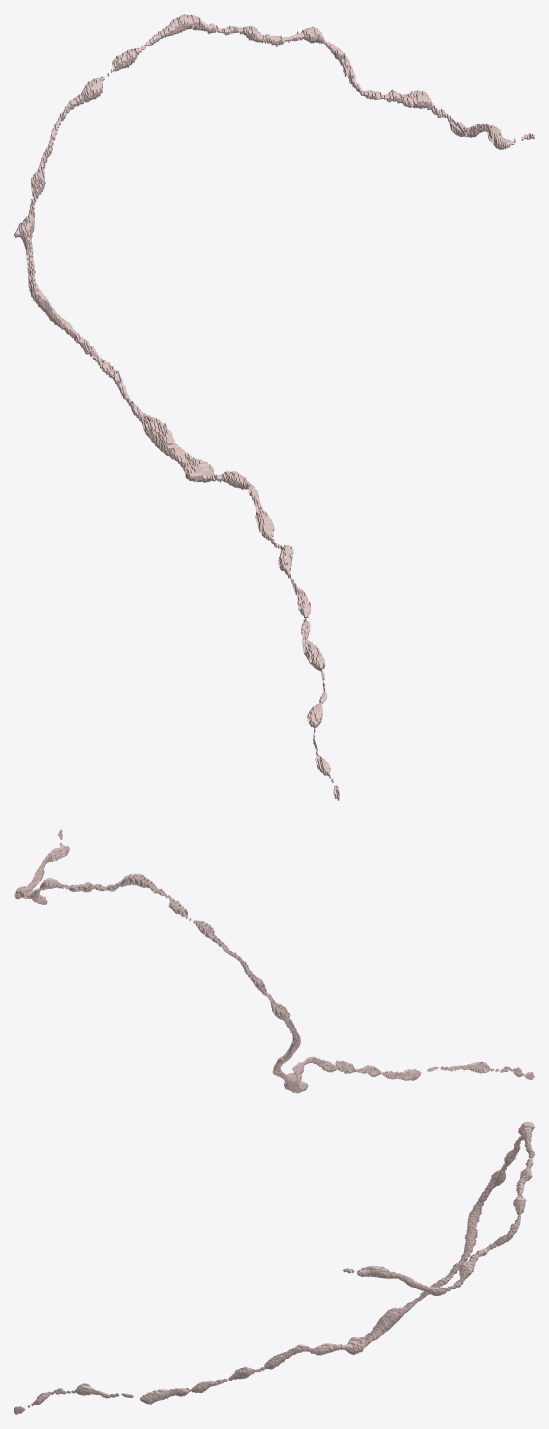
The model's file is SVV_AVHR.gltf.
3 renders of one model, top to bottom at view 1: azimuth 30°, elevation 25°; view 2: azimuth 150°, elevation 25°; view 3: azimuth 270°, elevation 25°, orthographic. The views are drawn at different scales.
Parts seen in each view (by area): view 1: AVHR; view 2: AVHR; view 3: AVHR.
Boxes of the visible parts, left/top/right/bottom form: AVHR: left=14, top=14, right=534, bottom=800; AVHR: left=14, top=829, right=534, bottom=1093; AVHR: left=14, top=1122, right=534, bottom=1414.
Size of the model in its own units: 137940 by 151705 by 199832.
